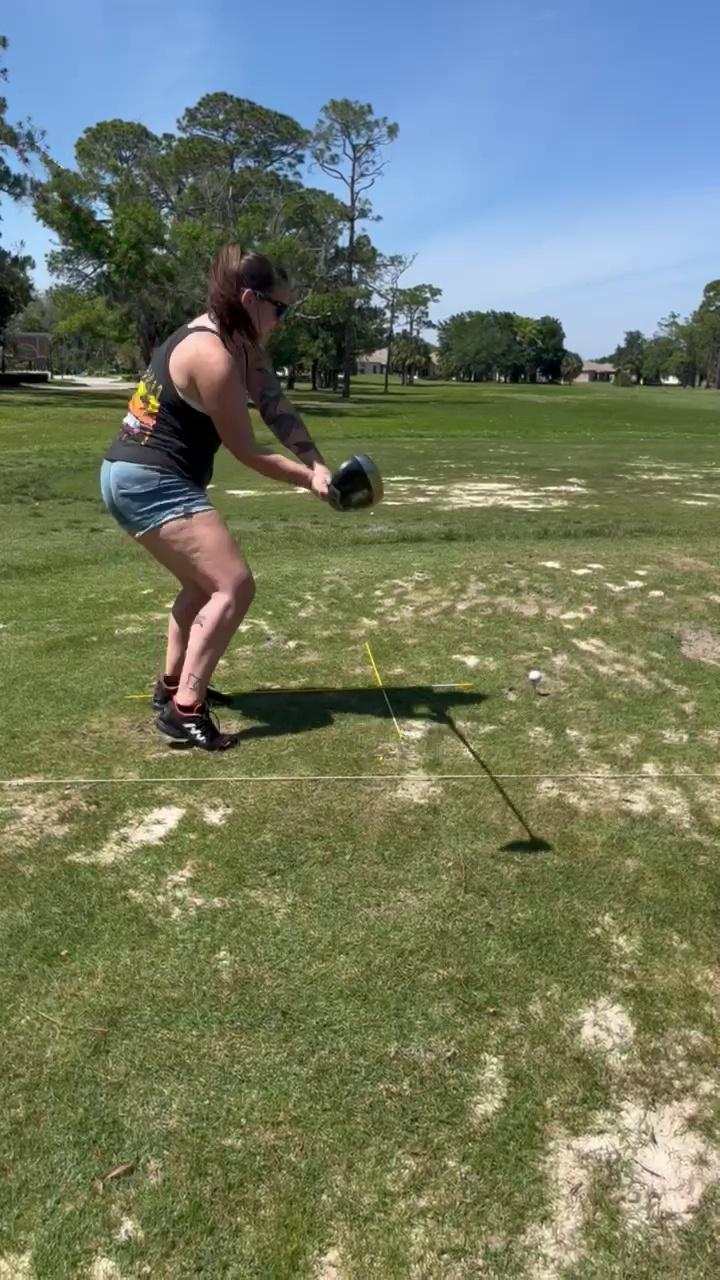ClubHead: (322, 443, 388, 529)
GolfBall: (527, 667, 544, 689)
